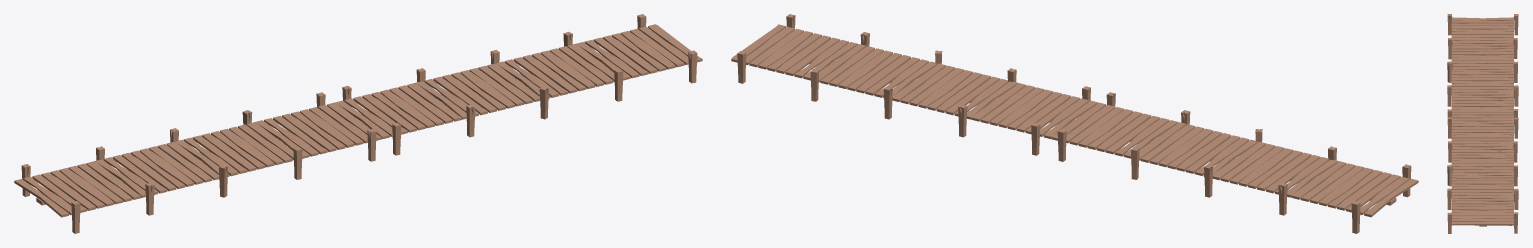
Rendered from PONTONrotMiddle.fbx.
3 renders of one model, left to right at view 1: azimuth 30°, elevation 25°; view 2: azimuth 150°, elevation 25°; view 3: azimuth 270°, elevation 25°, orthographic. The views are drawn at different scales.
Visible parts, largest first — view 1: ponton .017; view 2: ponton .017; view 3: ponton .017.
Boxes of the visible parts, <box> form: ponton .017: <box>14,14,702,233</box>; ponton .017: <box>731,14,1418,233</box>; ponton .017: <box>1447,14,1518,233</box>.
Size of the model in its own units: 5763 by 254 by 844.
